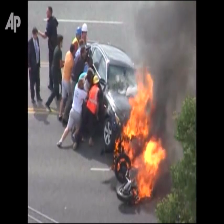fire_h: (121, 66, 164, 197)
fire_l: (116, 157, 130, 172), (114, 138, 120, 156)
